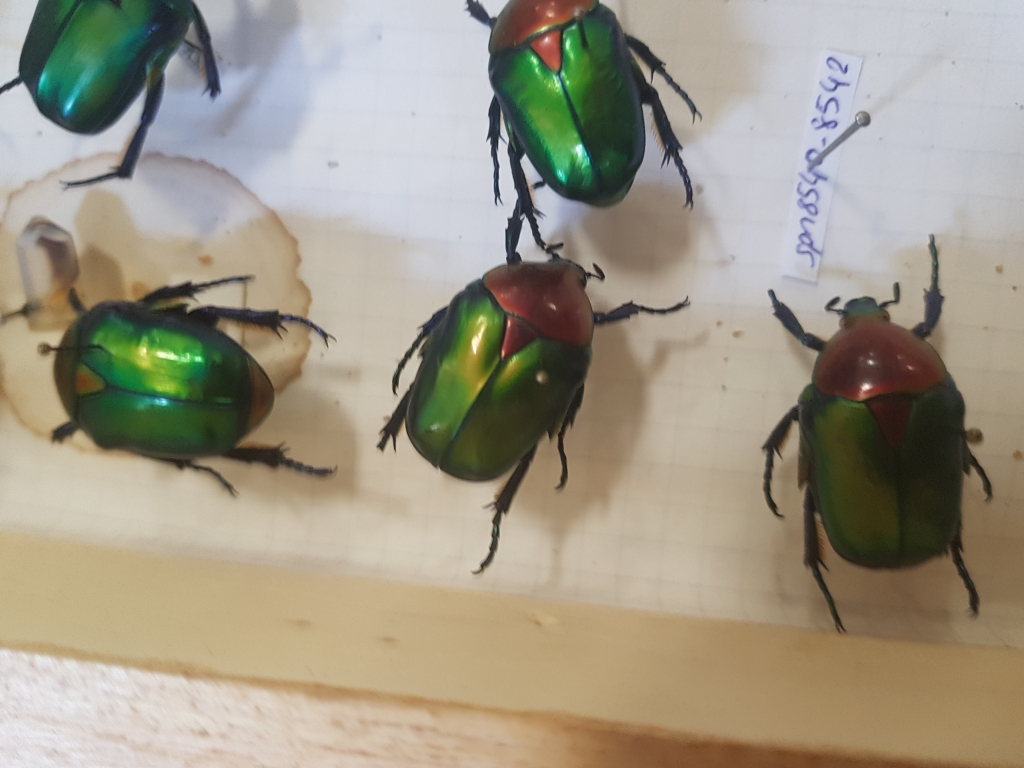Protaetia_speciosa_jousseliniw: (378, 170, 699, 579), (734, 223, 1009, 640)
